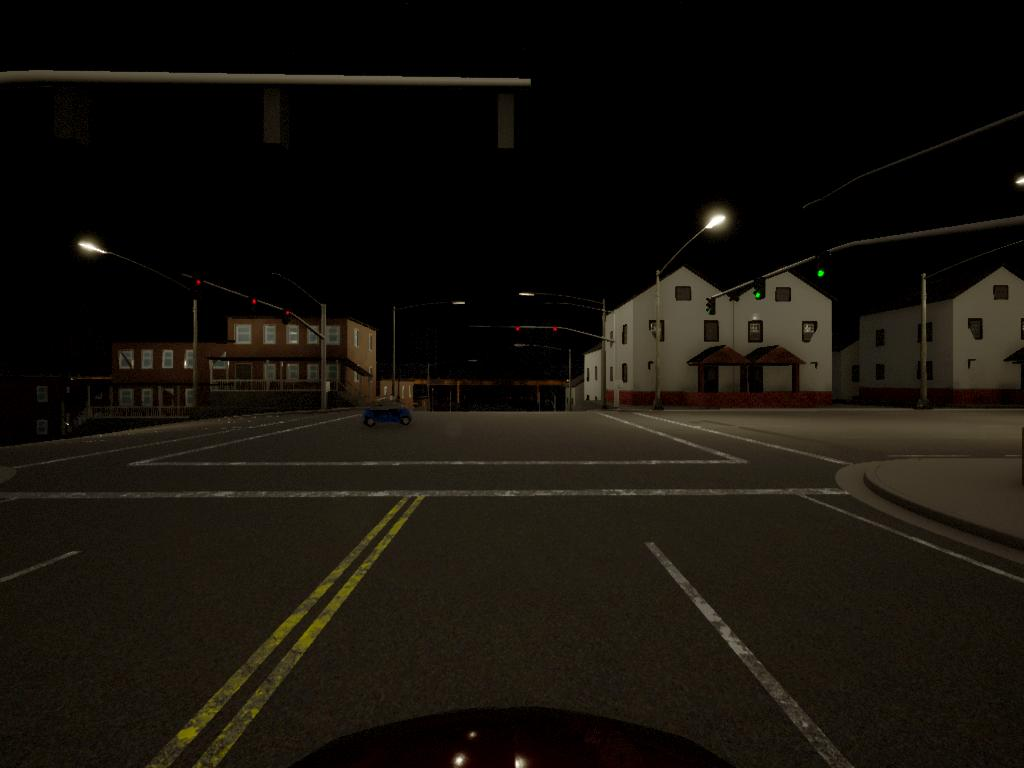traffic_light: (755, 279, 765, 301), (194, 276, 203, 298), (707, 299, 717, 317), (819, 259, 827, 280), (251, 296, 259, 312), (285, 310, 291, 325), (516, 327, 521, 334), (554, 327, 558, 334)
